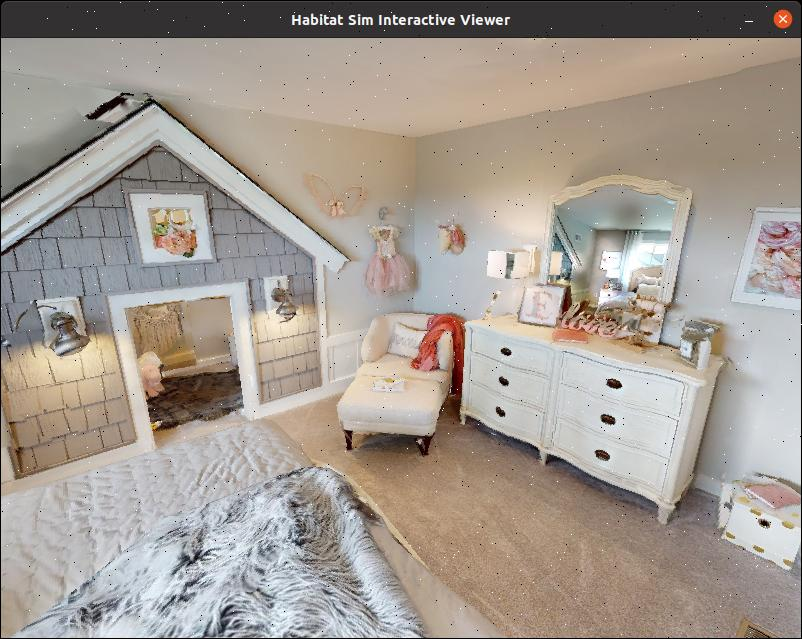door-frame: (114, 285, 271, 454)
sofa: (329, 305, 470, 470)
